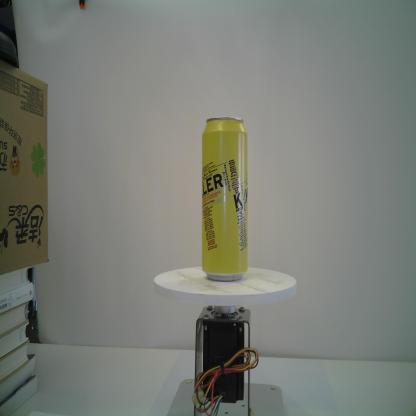Alcohol: (200, 116, 250, 283)
